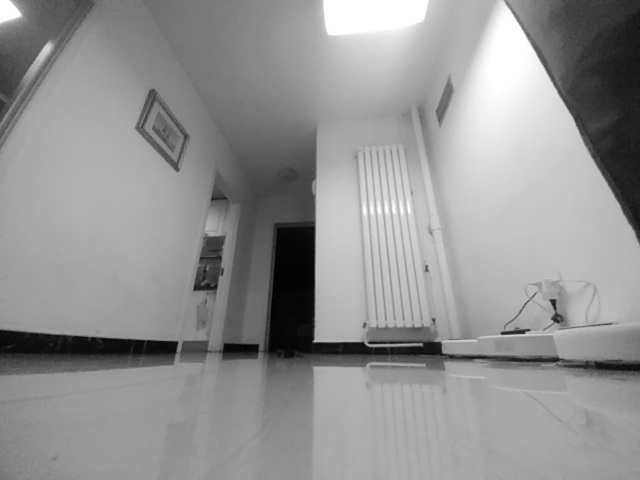others: (277, 348, 303, 359)
